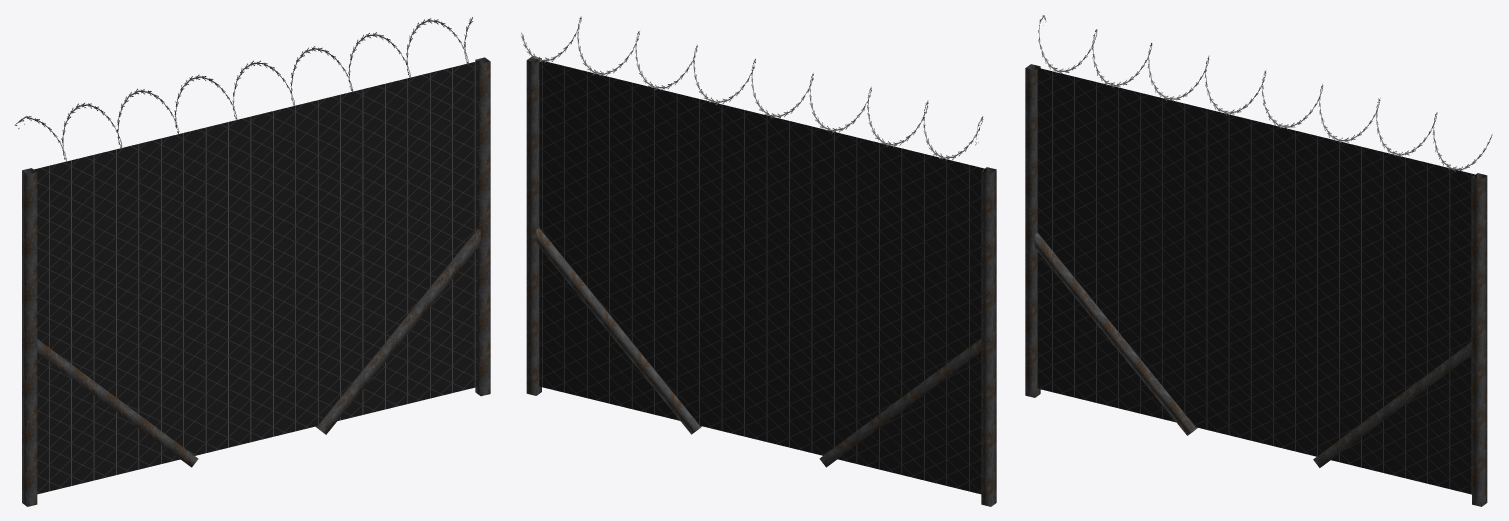
Rendered from VallaUntiy.fbx.
The picture shows the model from 3 angles, left to right: view 1: azimuth 30°, elevation 25°; view 2: azimuth 150°, elevation 25°; view 3: azimuth 330°, elevation 25°; orthographic projection.
Visible parts, largest first — view 1: Regilla, Bara4, Bara3, Espino; view 2: Regilla, Bara4, Bara3, Espino; view 3: Regilla, Bara4, Bara3, Espino.
Part boxes in pixels (x1=…): Regilla: x1=32, y1=60, x2=480, y2=494; Bara4: x1=22, y1=168, x2=480, y2=506; Bara3: x1=475, y1=57, x2=490, y2=396; Espino: x1=14, y1=17, x2=472, y2=161; Regilla: x1=537, y1=59, x2=986, y2=494; Bara4: x1=536, y1=167, x2=996, y2=506; Bara3: x1=526, y1=56, x2=541, y2=395; Espino: x1=521, y1=16, x2=983, y2=160; Regilla: x1=1035, y1=67, x2=1476, y2=494; Bara4: x1=1025, y1=64, x2=1471, y2=467; Bara3: x1=1472, y1=173, x2=1487, y2=506; Espino: x1=1038, y1=15, x2=1492, y2=171.
Bounding box in the file's own units: 12.46 × 9.94 × 1.36.
